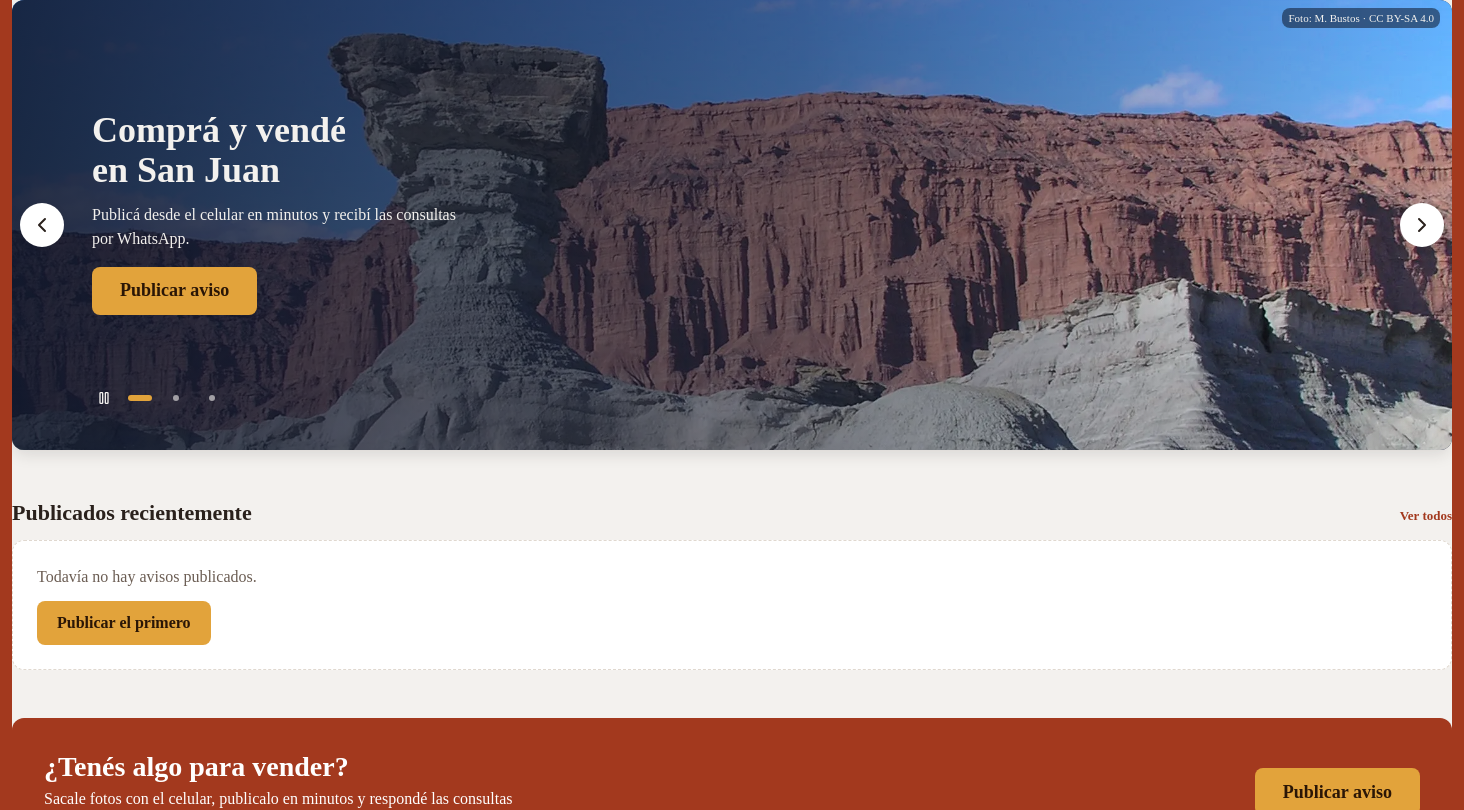
Scenario: HomeCarousel › cambia de diapositiva con las flechas y los puntos, y se pausa
Click the button named "Diapositiva siguiente" at (1422, 225), box [1400, 203, 1444, 247]
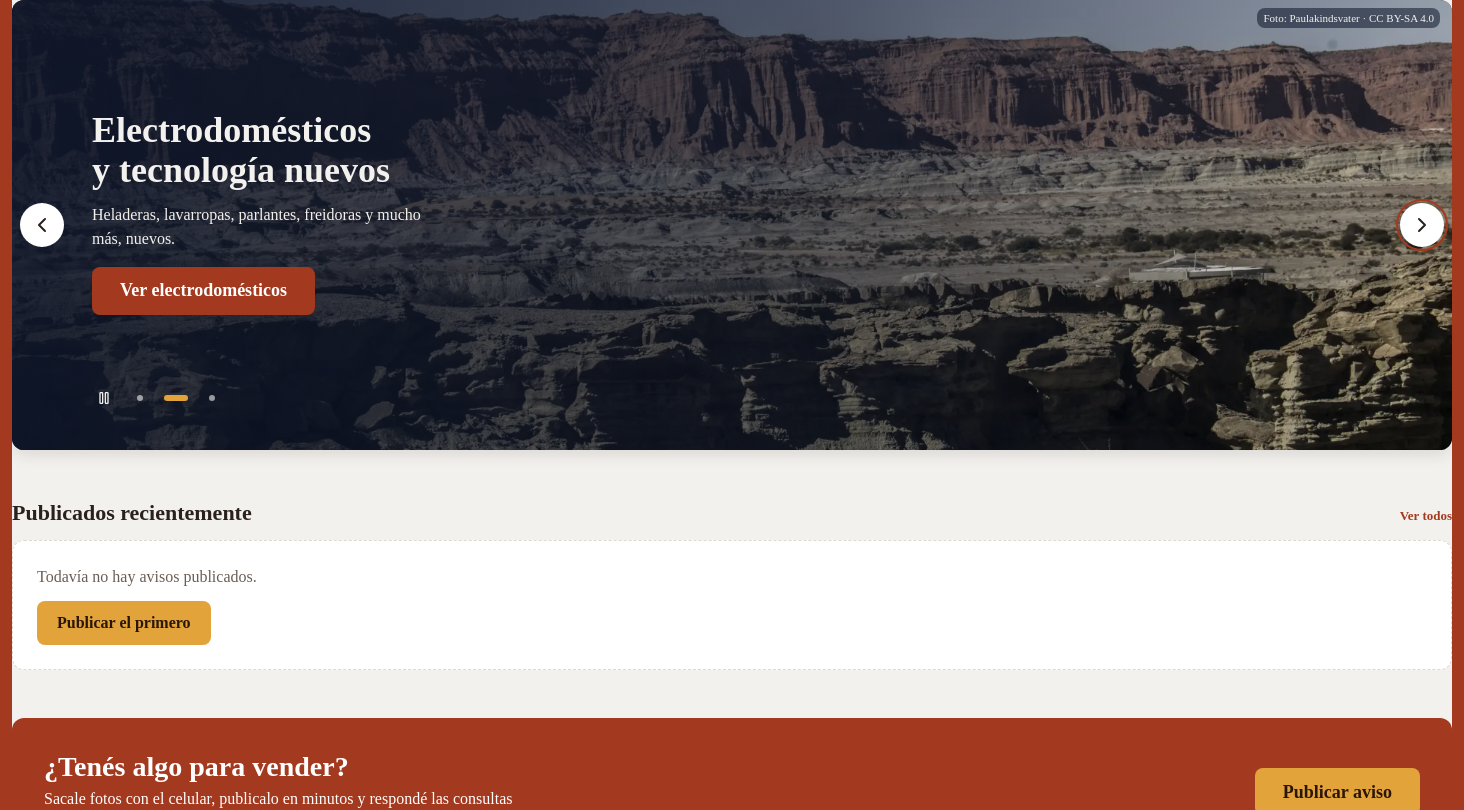
Click the button named "Ver diapositiva 3" at (212, 398), box [196, 382, 228, 414]
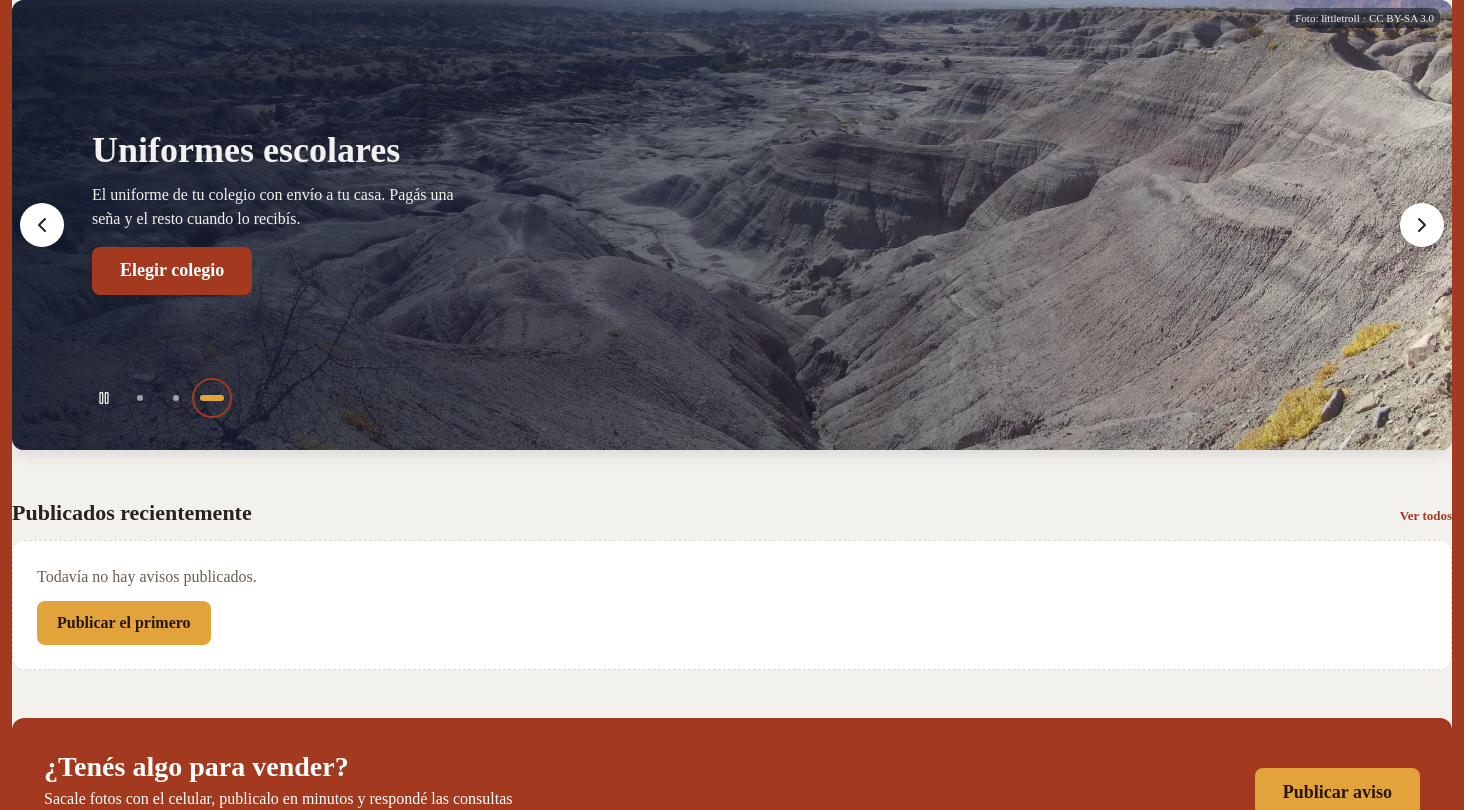
Click the button named "Pausar el carrusel" at (104, 398), box [88, 382, 120, 414]
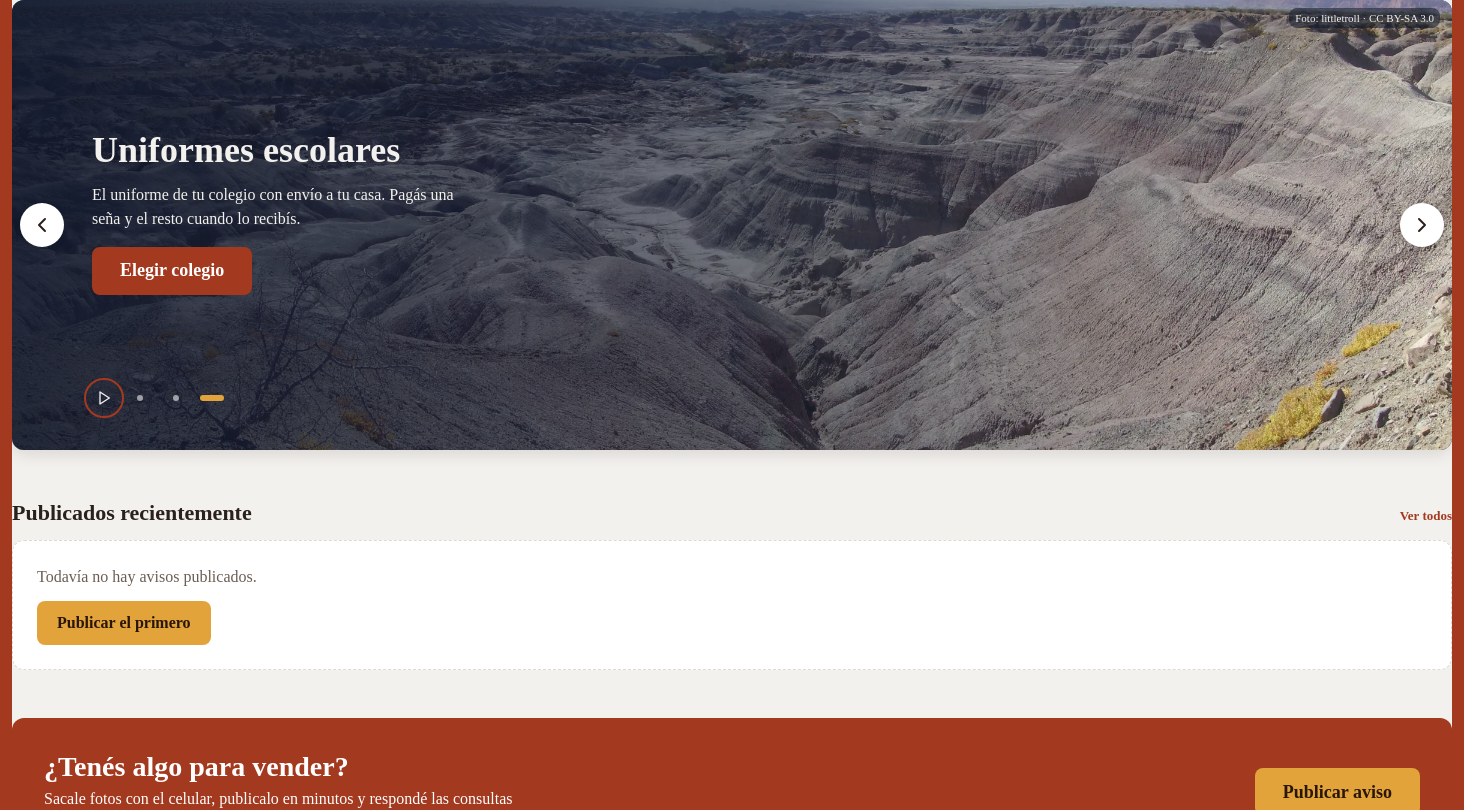
Check: the button named "Reanudar el carrusel" is shown, box [88, 382, 120, 414]
